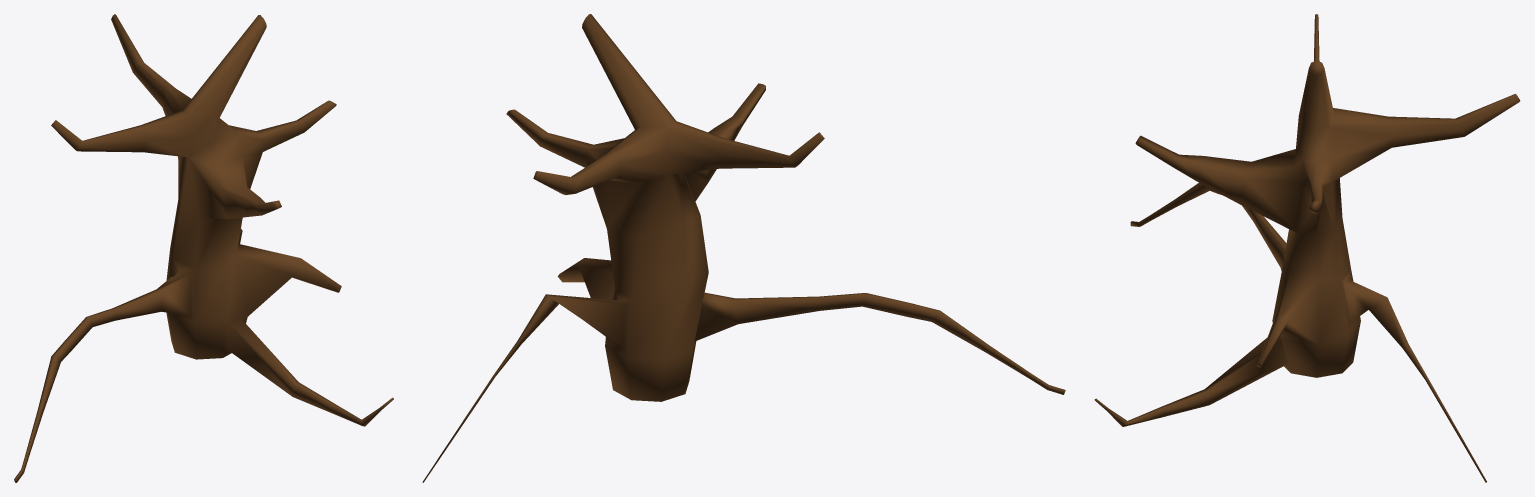
The model's file is AlienTree.fbx.
3 renders of one model, left to right at view 1: azimuth 30°, elevation 25°; view 2: azimuth 150°, elevation 25°; view 3: azimuth 270°, elevation 25°, orthographic. The views are drawn at different scales.
Parts seen in each view (by area): view 1: Cylinder; view 2: Cylinder; view 3: Cylinder.
Part boxes in pixels (bbox=[...]): Cylinder: bbox=[14, 14, 393, 482]; Cylinder: bbox=[422, 14, 1065, 482]; Cylinder: bbox=[1094, 14, 1520, 482].
Bounding box in the file's own units: 2141 × 1865 × 1851.
Materials: 1 (1 with a texture image).
